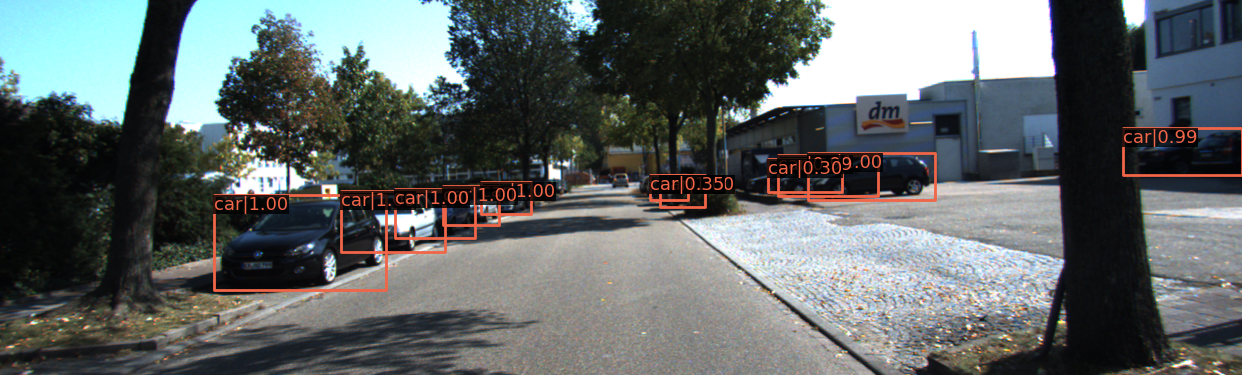car: (214, 196, 387, 293), (336, 192, 442, 254), (806, 153, 933, 201), (1092, 134, 1242, 173), (1130, 128, 1242, 174), (1061, 139, 1197, 175), (803, 152, 889, 198), (775, 156, 867, 197), (401, 189, 471, 237), (1186, 128, 1242, 174), (441, 187, 499, 224), (667, 174, 713, 210), (482, 186, 527, 215)
